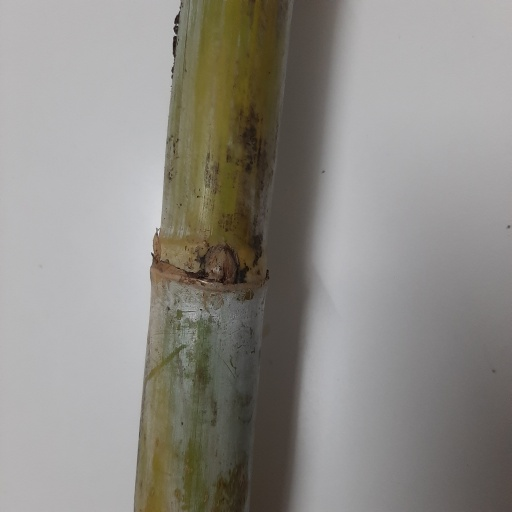Bud: (202, 242, 237, 283)
